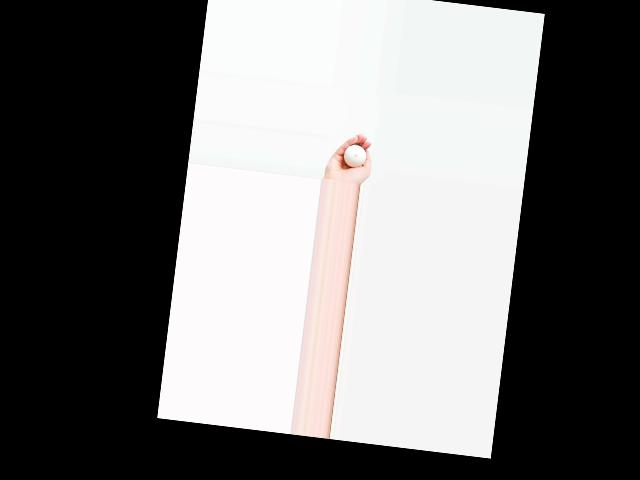egg: (342, 143, 366, 167)
